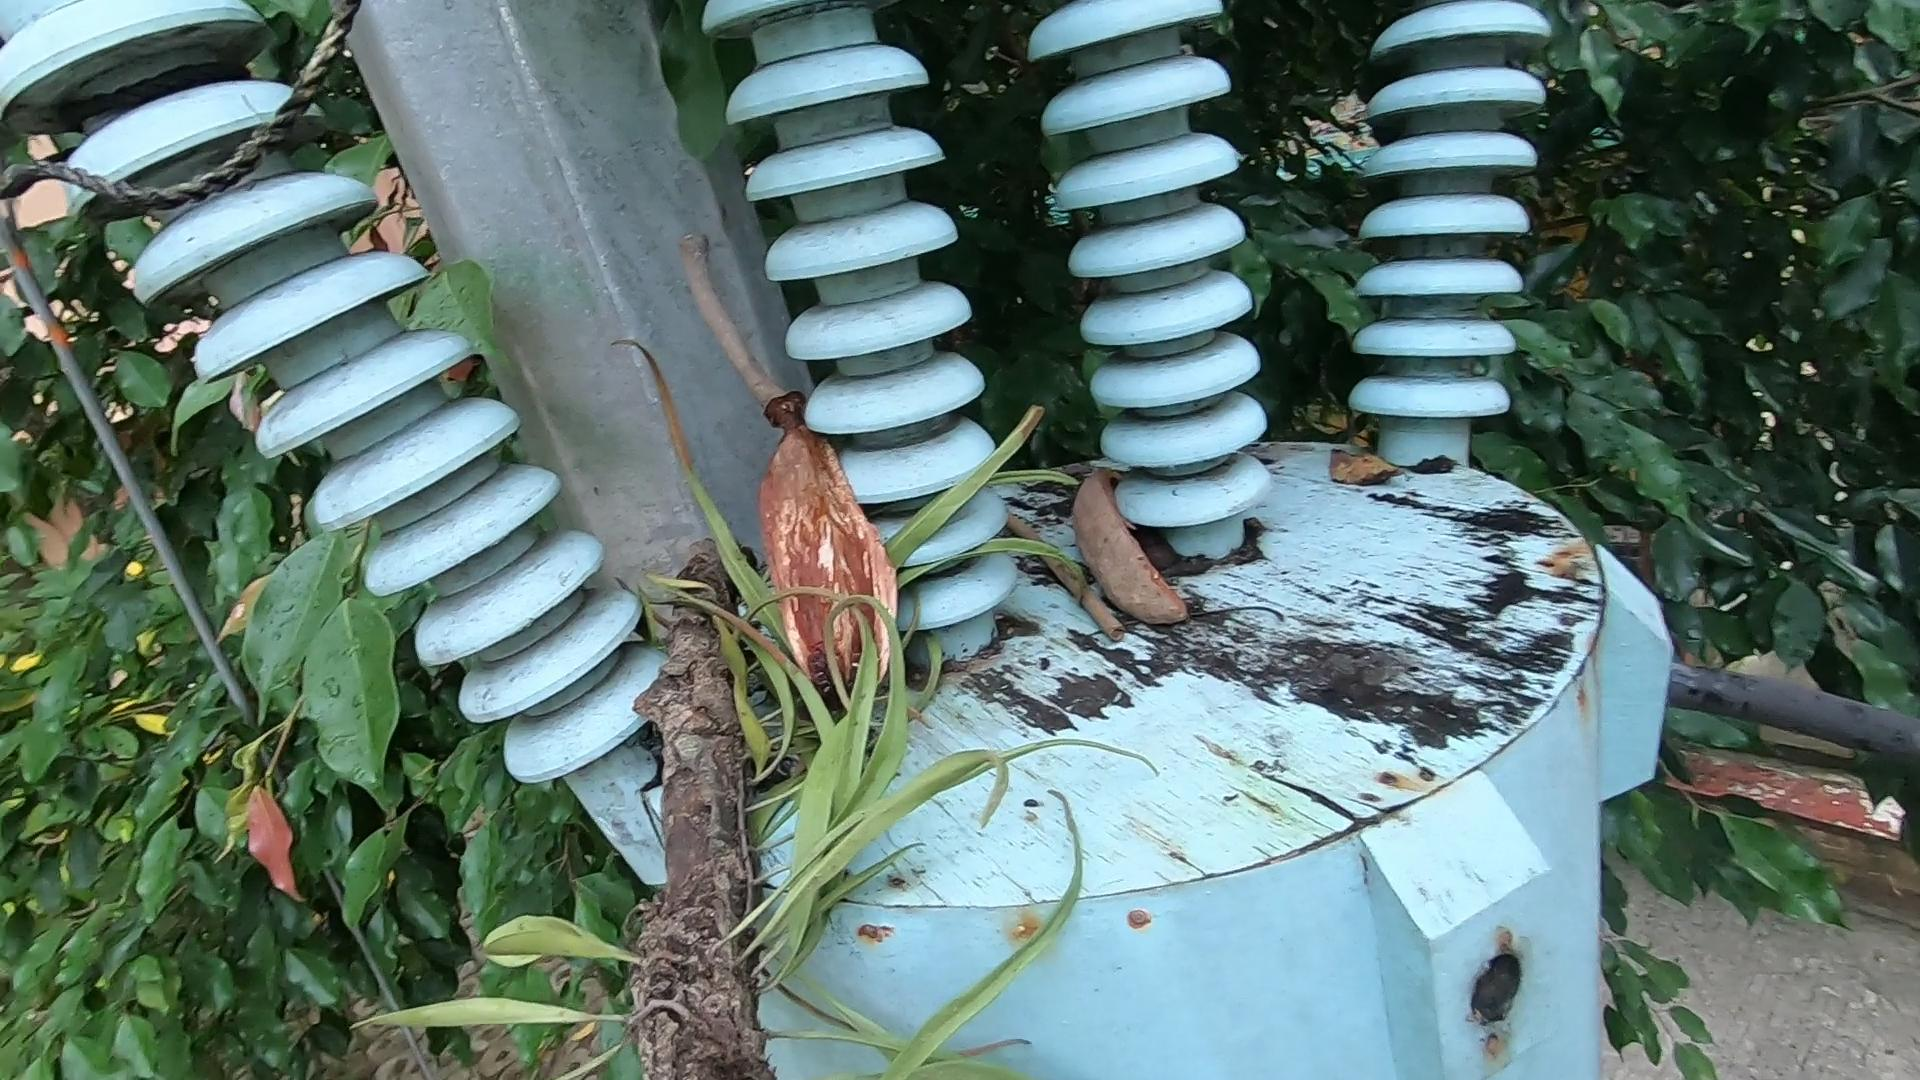branch with leaves: (549, 469, 913, 967)
leaf: (1305, 375, 1443, 516)
mahogany fruit: (735, 396, 963, 674), (1056, 425, 1197, 609)
tree branch: (957, 448, 1104, 653), (680, 208, 781, 438)
